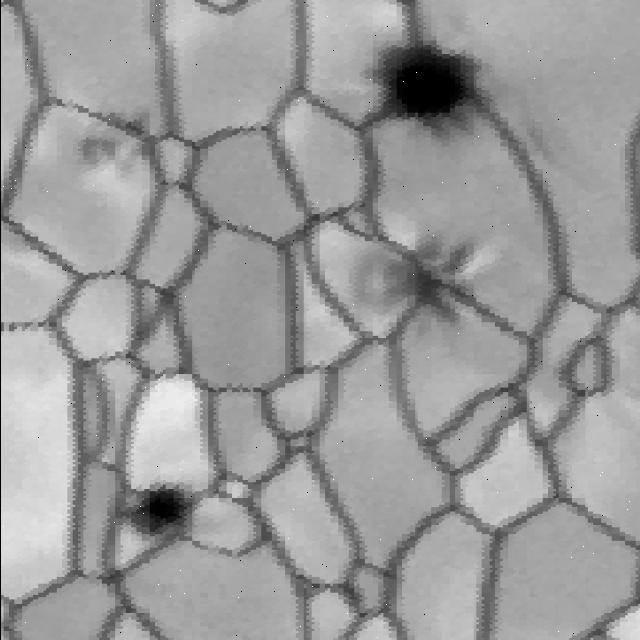good_void: (343, 29, 508, 157), (341, 226, 490, 340), (100, 463, 206, 549), (65, 108, 150, 173)
